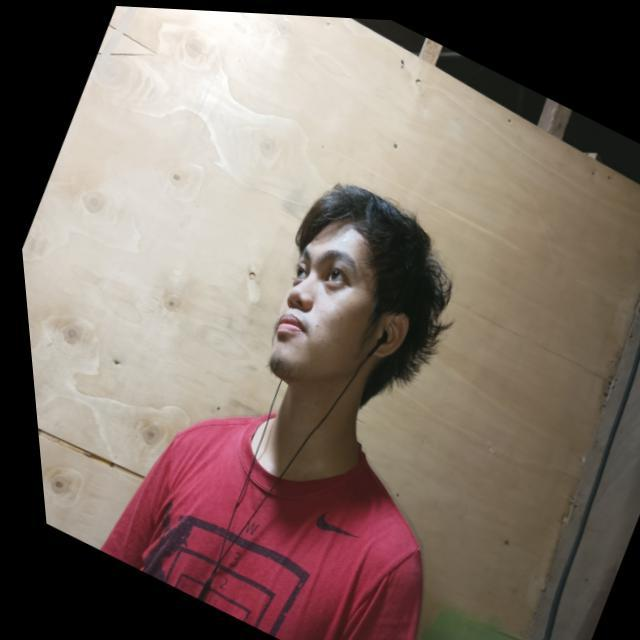Nonhelmet: (266, 181, 455, 407)
